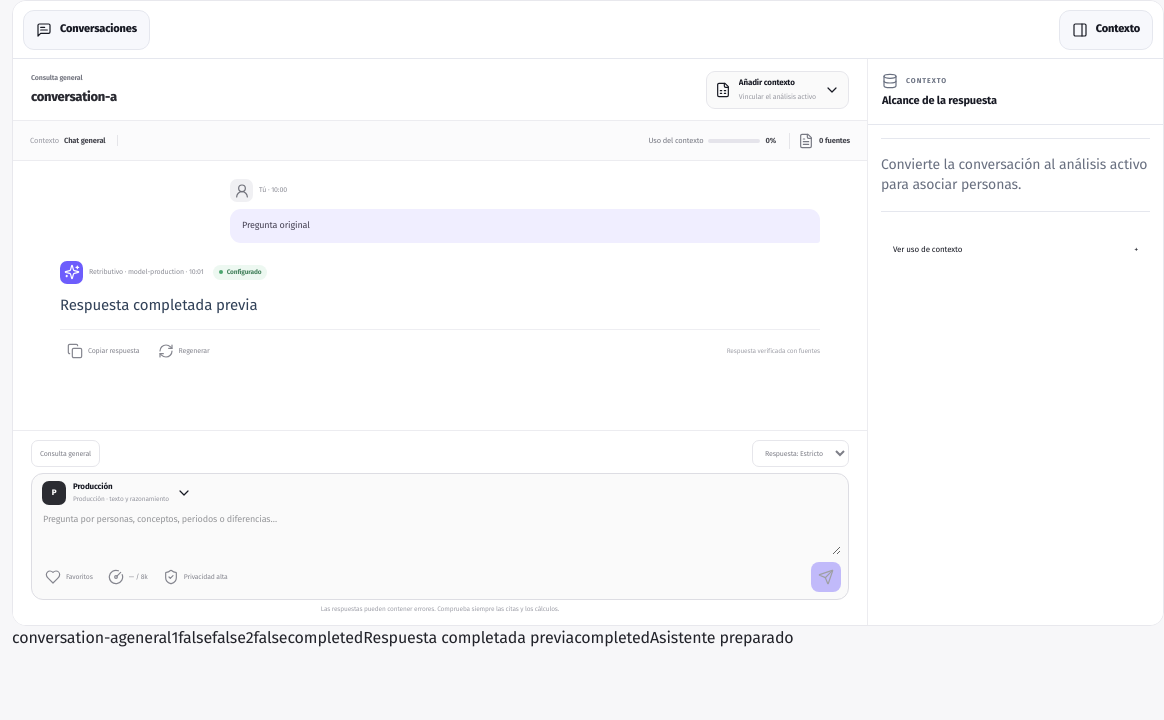
Test case: Phase 5 fifth-review regressions › zero-delta regenerate failure preserves a completed target
The image size is (1164, 720).
Click the button with aria-label "Regenerar respuesta" at (184, 351), box [150,337,216,365]
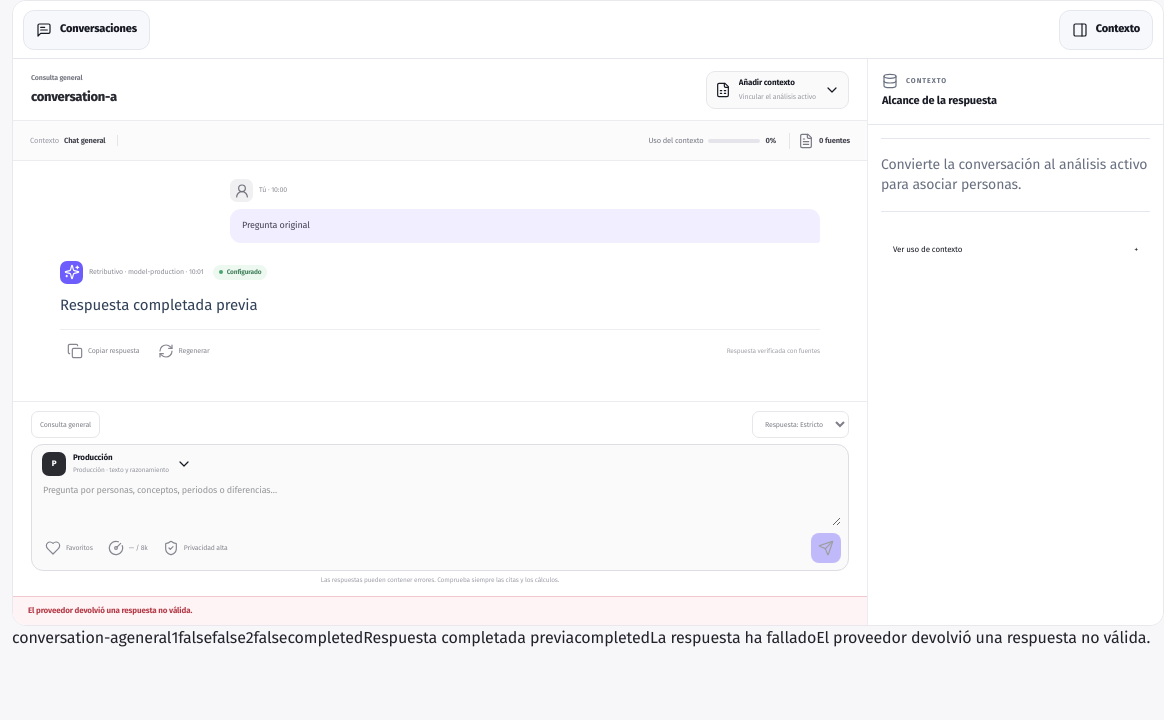
Expected: the text with test id "streaming" reads "false", [178,628,212,647]
Expected: the message "El proveedor devolvió una respuesta no válida." is shown, [13,596,867,625]
